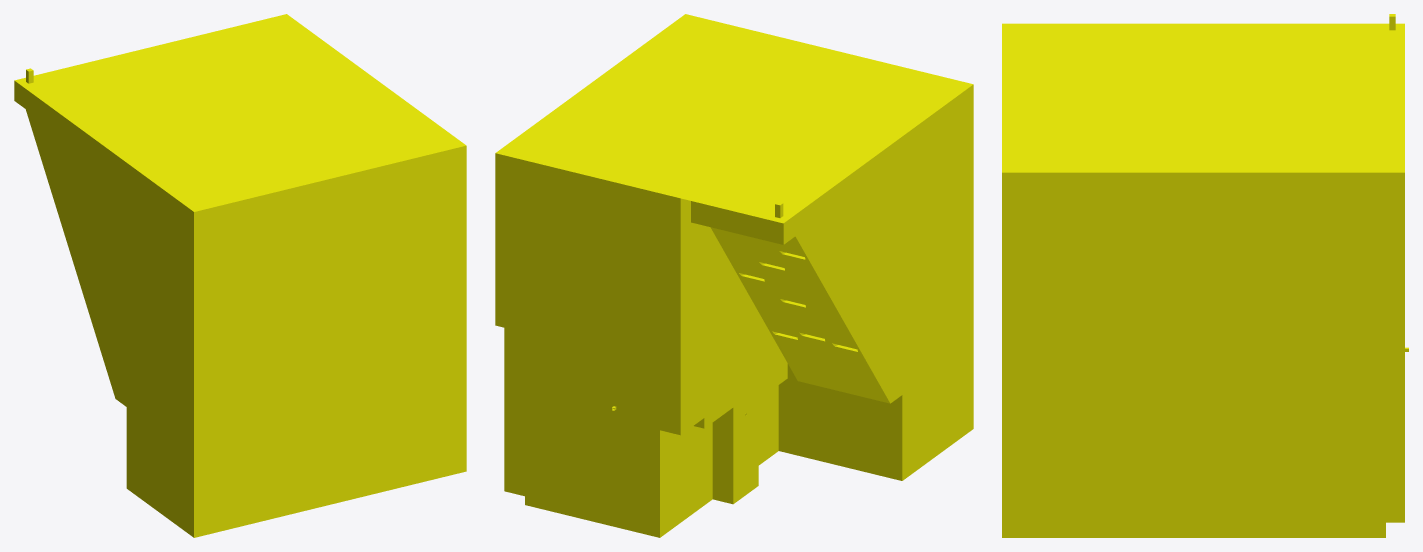
Rendered from vanish_cap_segment7.0x09750.collision.obj.
3 renders of one model, left to right at view 1: azimuth 30°, elevation 25°; view 2: azimuth 150°, elevation 25°; view 3: azimuth 270°, elevation 25°, orthographic. The views are drawn at different scales.
Visible parts, largest first — view 1: vanish_cap_segment7_09750_normal; view 2: vanish_cap_segment7_09750_normal; view 3: vanish_cap_segment7_09750_normal.
Boxes of the visible parts, left/top/right/bottom form: vanish_cap_segment7_09750_normal: left=14, top=14, right=466, bottom=537; vanish_cap_segment7_09750_normal: left=495, top=14, right=973, bottom=537; vanish_cap_segment7_09750_normal: left=1002, top=14, right=1408, bottom=537.
Size of the model in its own units: 11.2 by 13.28 by 12.92.
